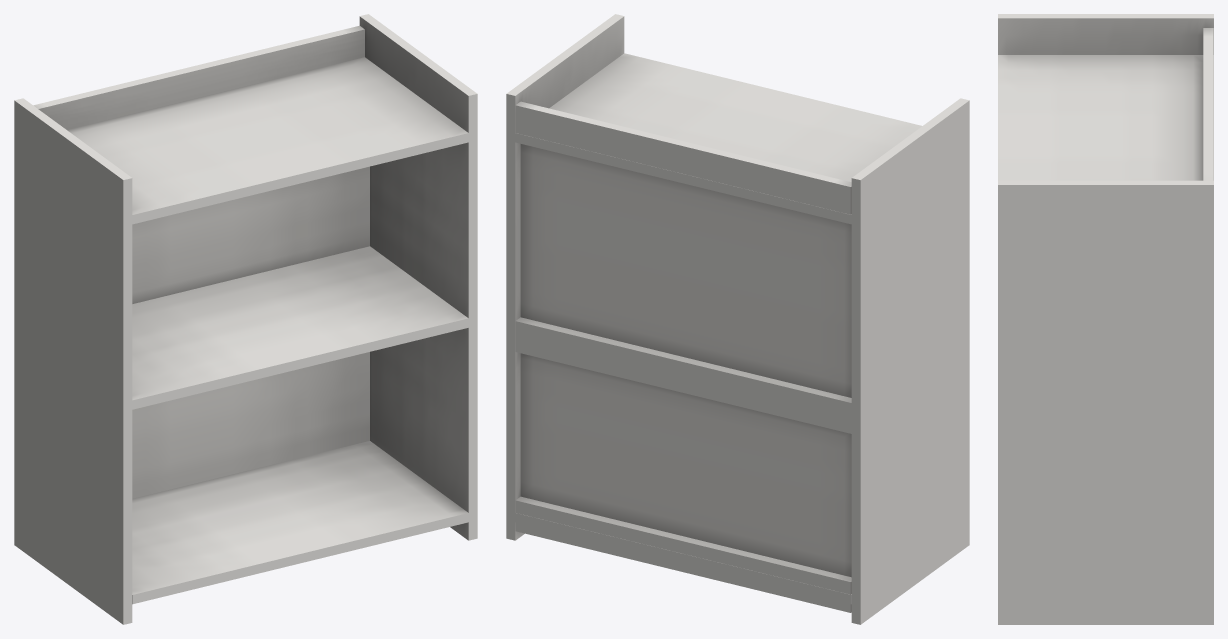
The model's file is ecs-flat-pack-range-hood-doors-off.glb.
The picture shows the model from 3 angles, left to right: view 1: azimuth 30°, elevation 25°; view 2: azimuth 150°, elevation 25°; view 3: azimuth 270°, elevation 25°; orthographic projection.
Visible parts, largest first — view 1: part_box; view 2: part_box; view 3: part_box.
Part boxes in pixels (bbox=[...]): part_box: bbox=[14, 14, 477, 624]; part_box: bbox=[506, 14, 969, 624]; part_box: bbox=[998, 14, 1213, 624].
Size of the model in its own units: 0.762 by 0.9144 by 0.4064.
Materials: 1 (1 with a texture image).
